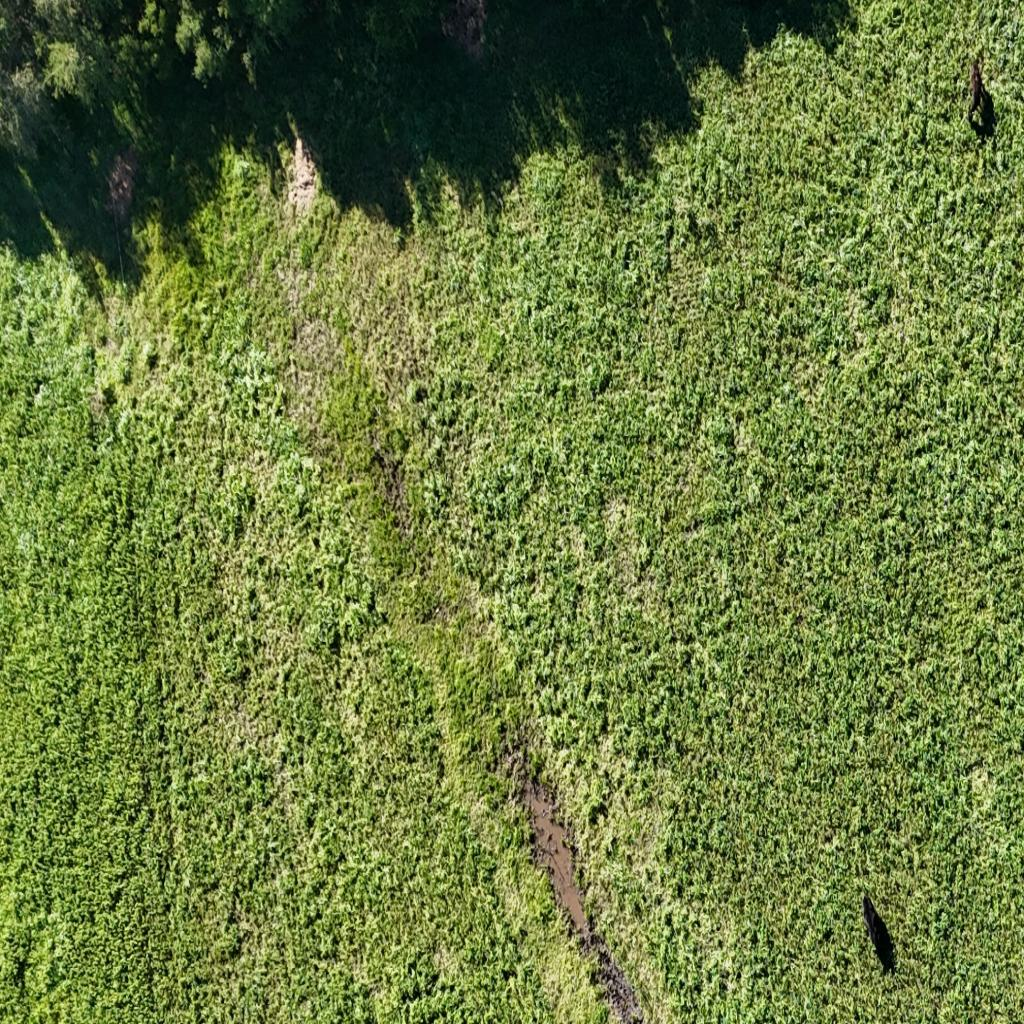cow: (962, 54, 991, 138), (862, 893, 876, 936)
